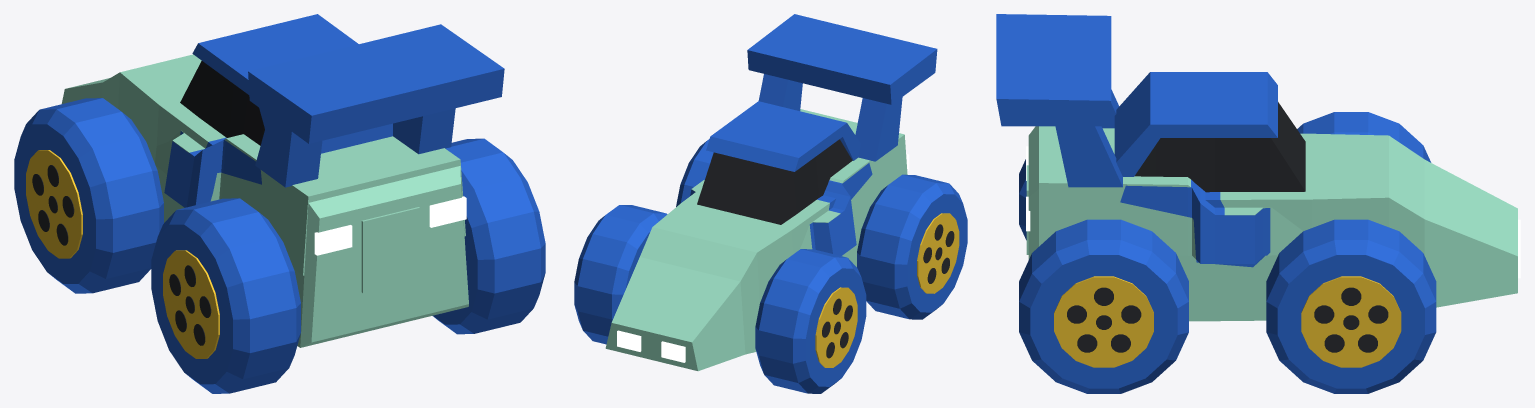
File: buggy.glb
3 renders of one model, left to right at view 1: azimuth 30°, elevation 25°; view 2: azimuth 150°, elevation 25°; view 3: azimuth 270°, elevation 25°, orthographic. The views are drawn at different scales.
Visible parts, largest first — view 1: body, wheel_RL, wheel_FL, wheel_RR; view 2: body, wheel_FL, wheel_RL, wheel_FR, wheel_RR; view 3: body, wheel_FR, wheel_RR, wheel_FL, wheel_RL.
Boxes of the visible parts, x1=… form: body: x1=61, y1=14, x2=504, y2=347; wheel_RL: x1=151, y1=198, x2=300, y2=393; wheel_FL: x1=14, y1=98, x2=163, y2=293; wheel_RR: x1=432, y1=138, x2=545, y2=334; body: x1=605, y1=14, x2=937, y2=371; wheel_FL: x1=755, y1=249, x2=866, y2=393; wheel_RL: x1=857, y1=174, x2=967, y2=319; wheel_FR: x1=574, y1=205, x2=667, y2=344; wheel_RR: x1=676, y1=139, x2=713, y2=206; body: x1=996, y1=14, x2=1520, y2=321; wheel_FR: x1=1266, y1=219, x2=1436, y2=393; wheel_RR: x1=1019, y1=219, x2=1188, y2=393; wheel_FL: x1=1297, y1=112, x2=1431, y2=162; wheel_RL: x1=1019, y1=159, x2=1026, y2=240.
Size of the model in its own units: 2.33 by 2.13 by 3.7.
